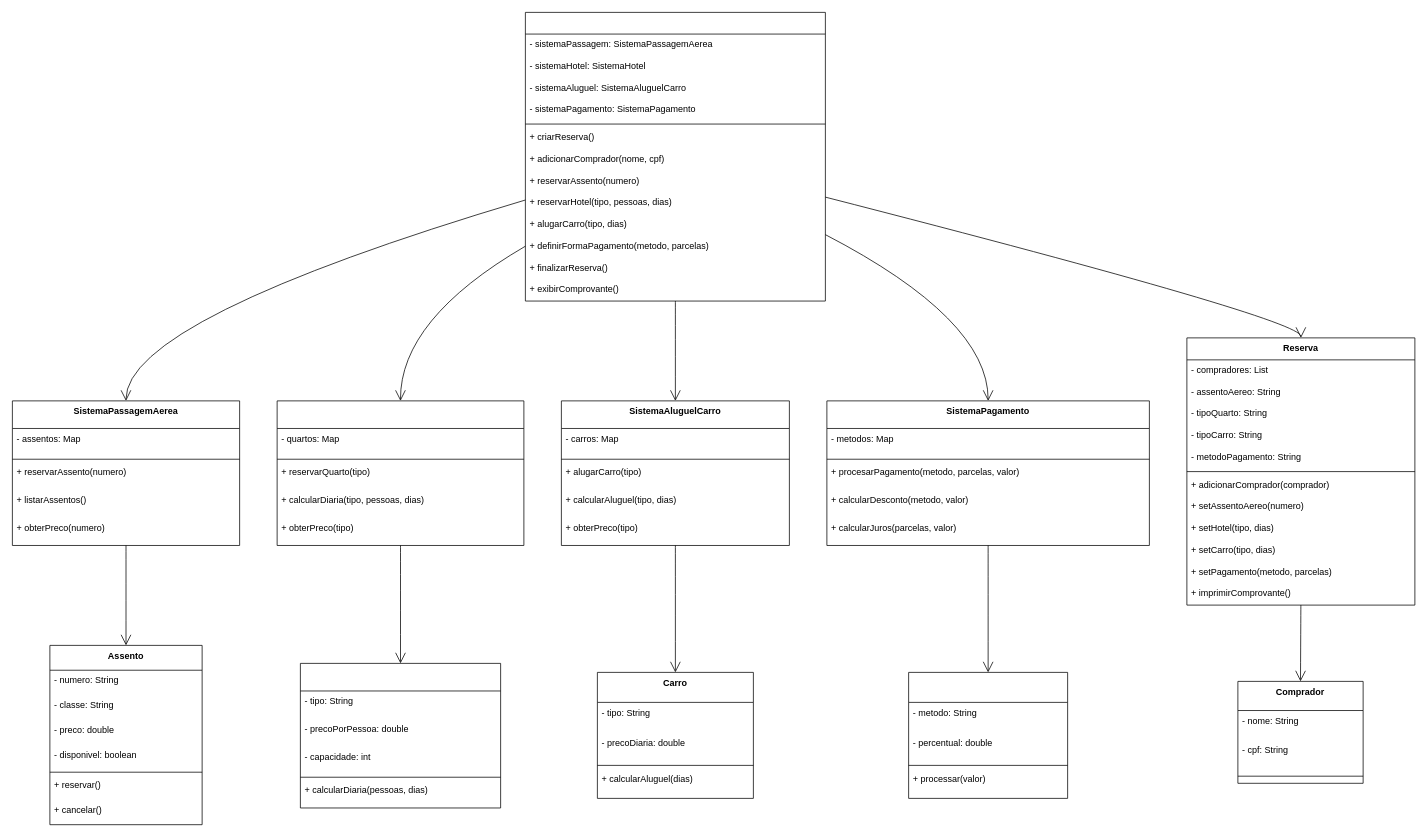
Some shapes in this 1427 by 837 pixel diagram are drawn without their labels. Here are the shapes that lost their labels. From the top down, the box of each, then its label:
(525, 12, 825, 301): ViagensFacade
(276, 400, 524, 545): SistemaHotel
(300, 663, 501, 808): Quarto
(908, 672, 1068, 798): Pagamento
